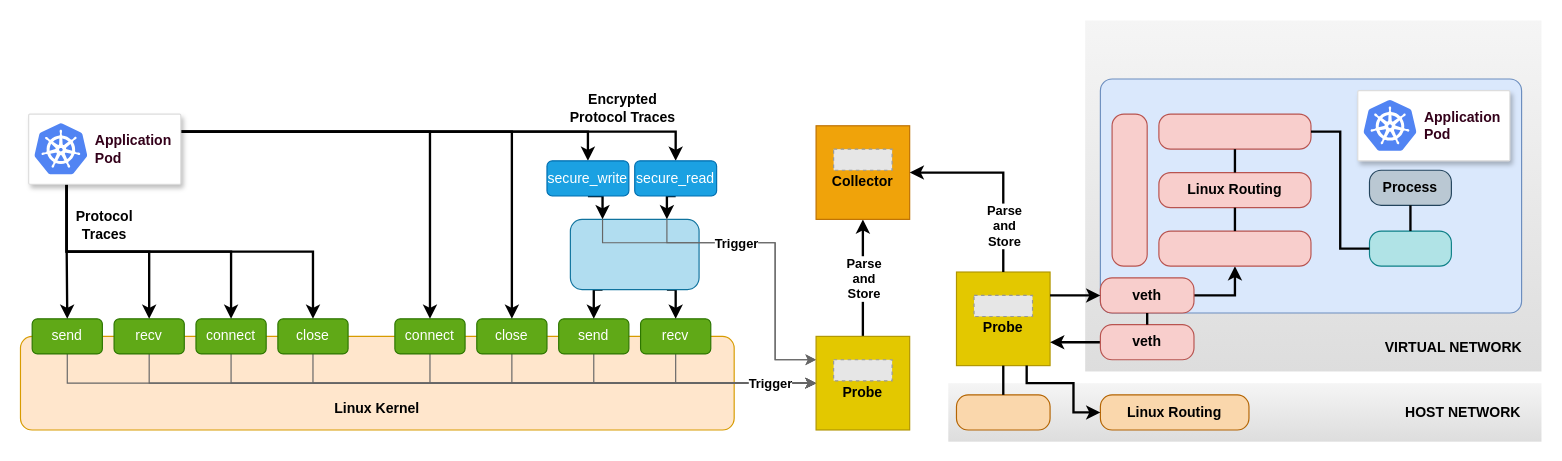
Image size: 1562x461. Some labels were removed from this diagram. Grey dashed boxes stand in for pictures. Each missing label, with the centre of its shape:
"conntrack" goes at pixel 1129 189.
"eth0" goes at pixel 1002 412.
"INPUT" goes at pixel 1234 131.
"PREROUTING Mangle" goes at pixel 1234 248.
"Security Library" goes at pixel 634 254.
"Socket" goes at pixel 1409 248.
